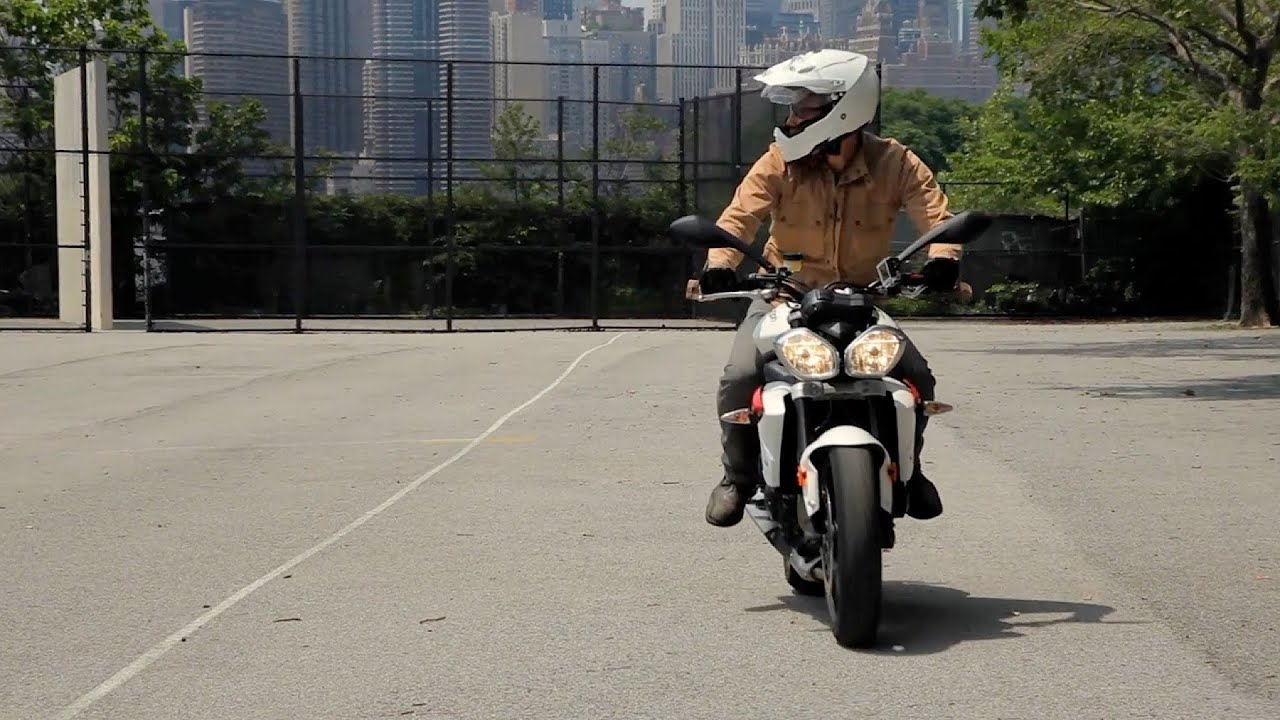bike: (687, 58, 961, 656)
